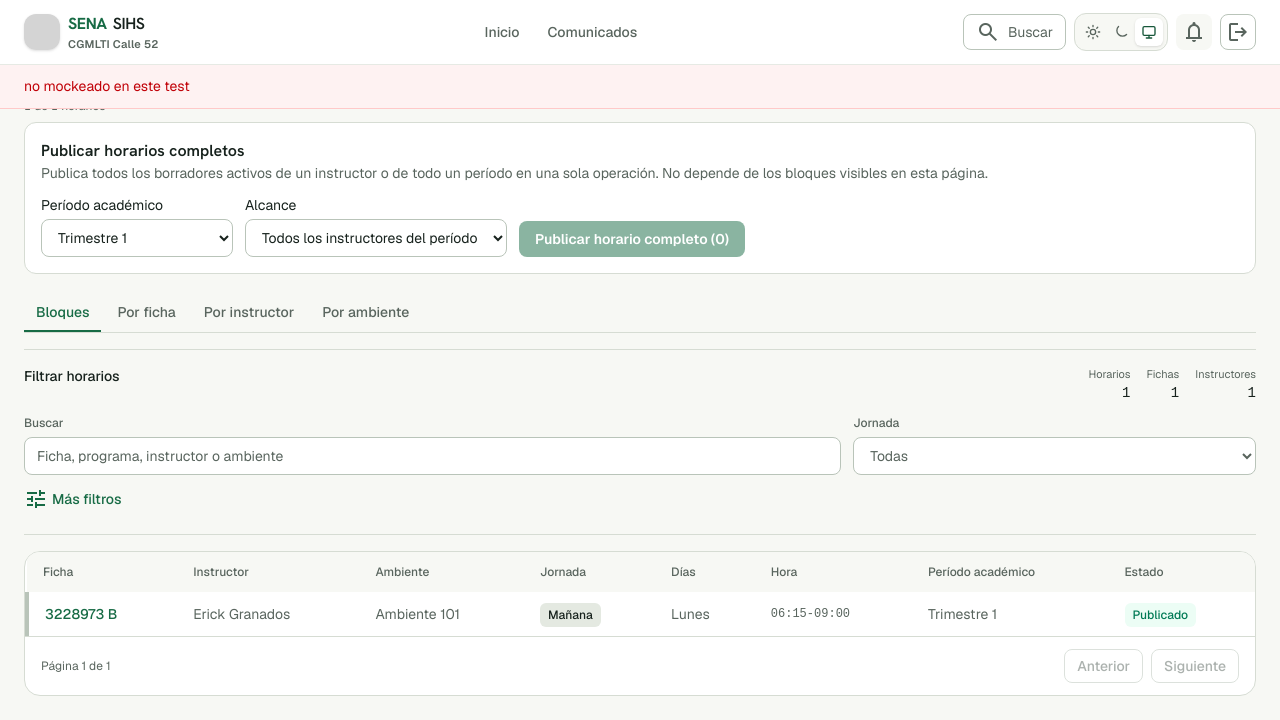
Test case: HorariosCompletos › centraliza la publicación y edición del bloque en su tarjeta de gestión
(page scrolled)
Click the button named "Ver detalle del horario de la ficha 3228973 B". click: {"x": 81, "y": 614}
box: [45,604,117,624]
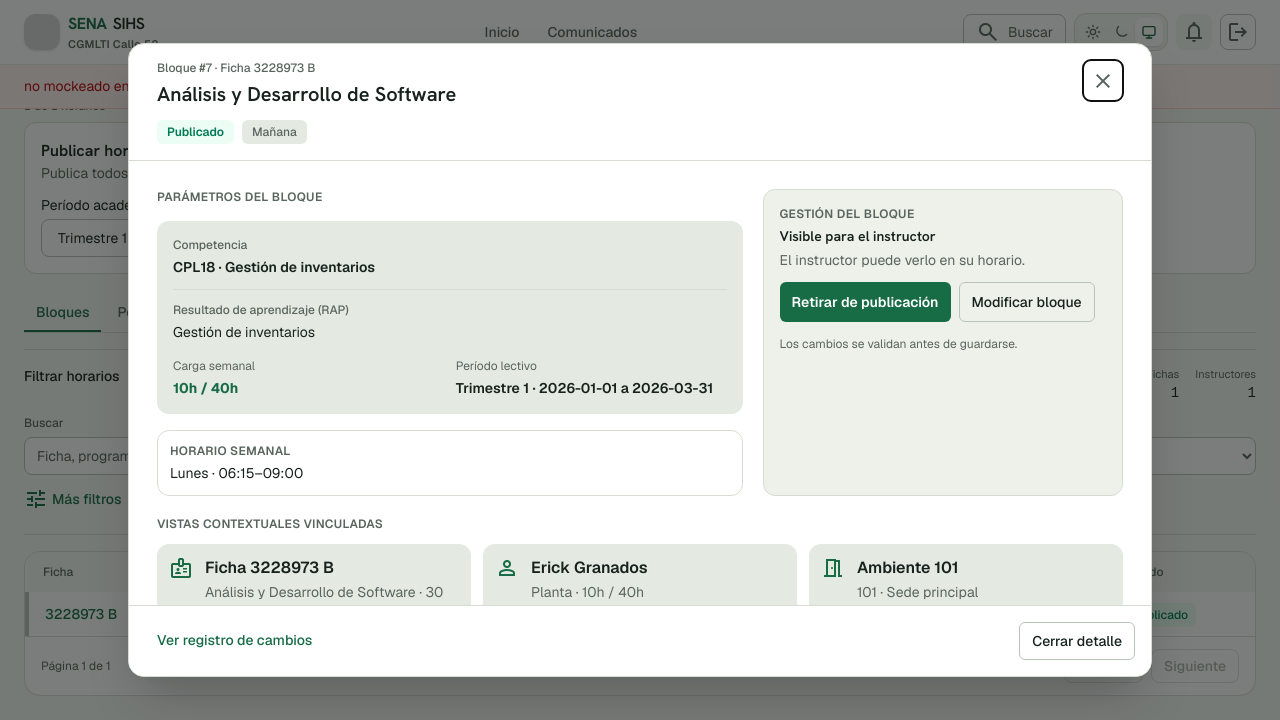
Expected: the heading "Visible para el instructor" is shown, [780,227,936,245]
Expected: the button "Retirar de publicación" is shown, [780,282,950,322]
Expected: the button "Modificar bloque" is shown, [958,282,1095,322]
